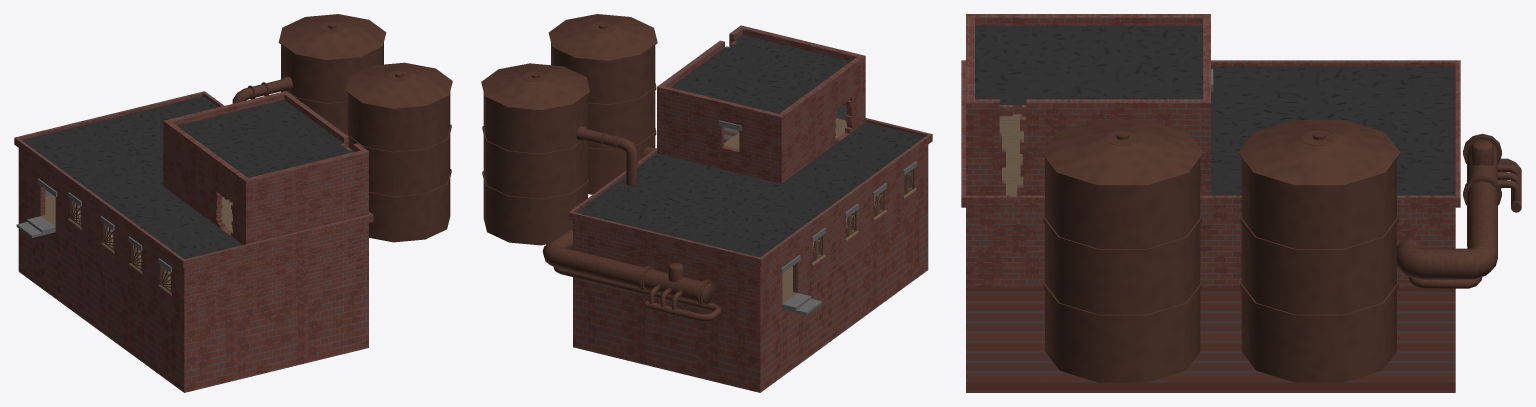
The model's file is House.fbx.
3 renders of one model, left to right at view 1: azimuth 30°, elevation 25°; view 2: azimuth 150°, elevation 25°; view 3: azimuth 270°, elevation 25°, orthographic. The views are drawn at different scales.
Parts seen in each view (by area): view 1: Cylinder.005; view 2: Cylinder.005; view 3: Cylinder.005.
Boxes of the visible parts, x1,y1,x2,y2 form: Cylinder.005: [14, 14, 452, 392]; Cylinder.005: [481, 14, 932, 392]; Cylinder.005: [961, 14, 1521, 392].
Bounding box in the file's own units: 2948 × 1801 × 2875.
